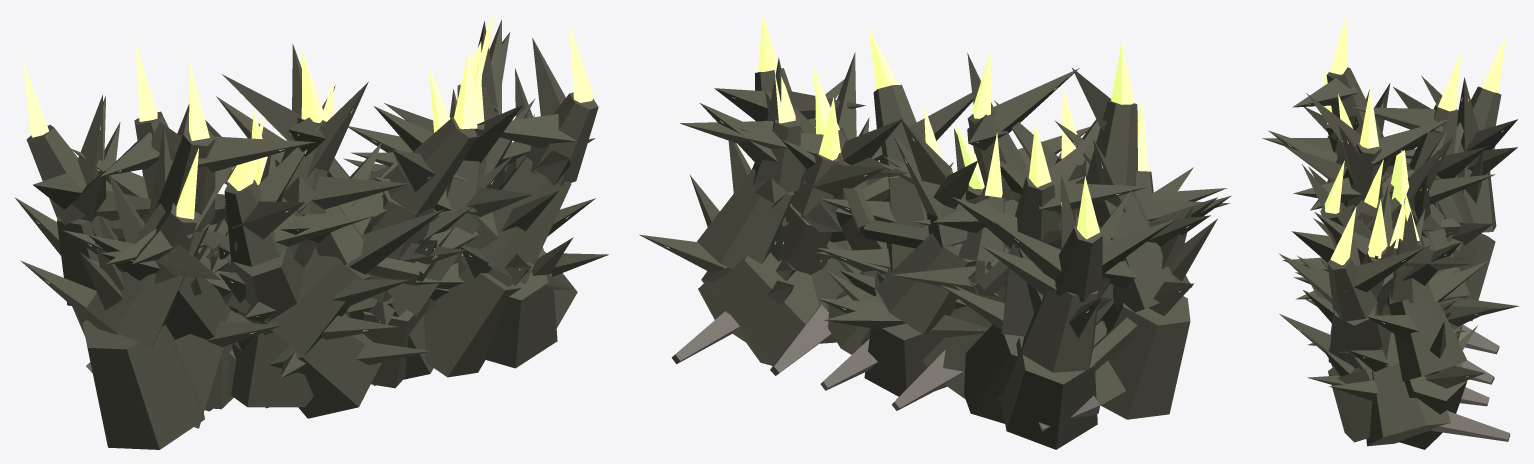
The model's file is thorn_wall_2.glb.
3 views of the same model, side by side, from view 1: azimuth 30°, elevation 25°; view 2: azimuth 150°, elevation 25°; view 3: azimuth 270°, elevation 25° (orthographic). The views are drawn at different scales.
Parts seen in each view (by area): view 1: thorn_wall_2; view 2: thorn_wall_2; view 3: thorn_wall_2.
Boxes of the visible parts, x1,y1,x2,y2 form: thorn_wall_2: (14,14,608,449); thorn_wall_2: (639,15,1231,449); thorn_wall_2: (1262,15,1519,449).
Bounding box in the file's own units: 4 × 2.74 × 2.07.
